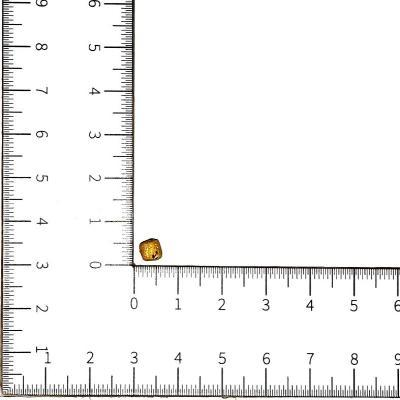archeology: (137, 239, 163, 263)
